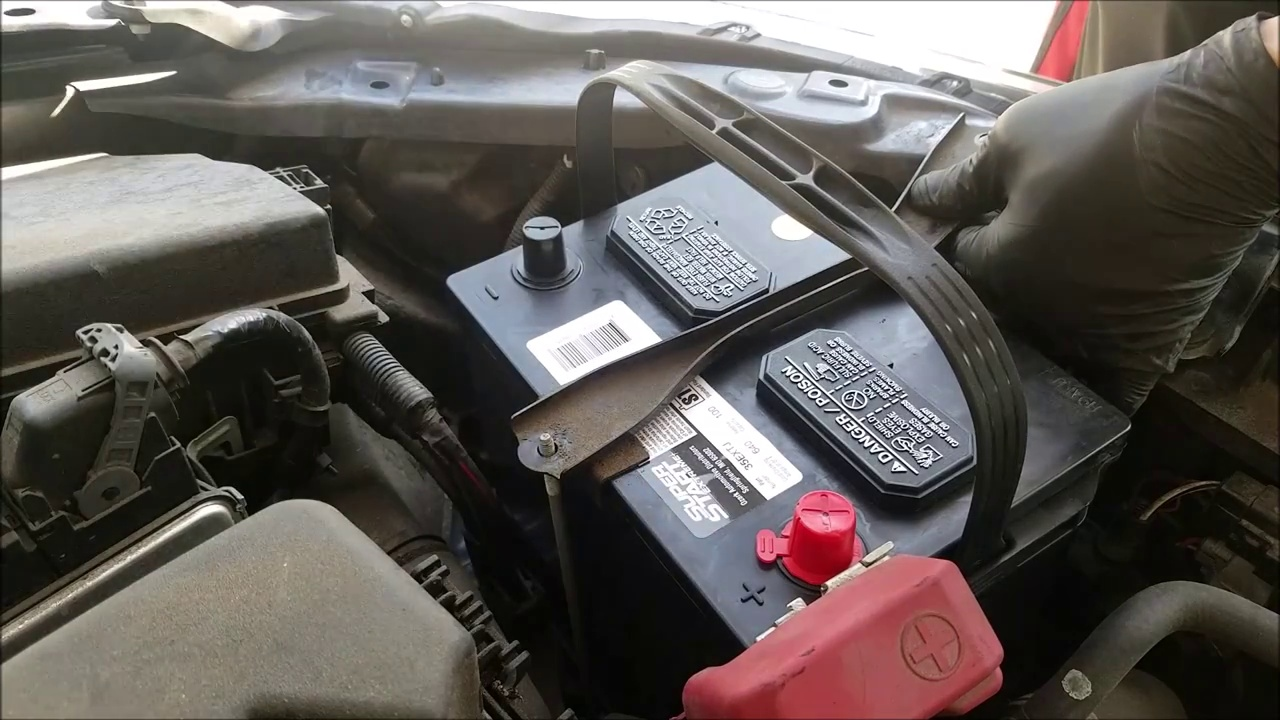battery: (451, 149, 1131, 636)
pos_disconnected: (721, 450, 993, 709)
